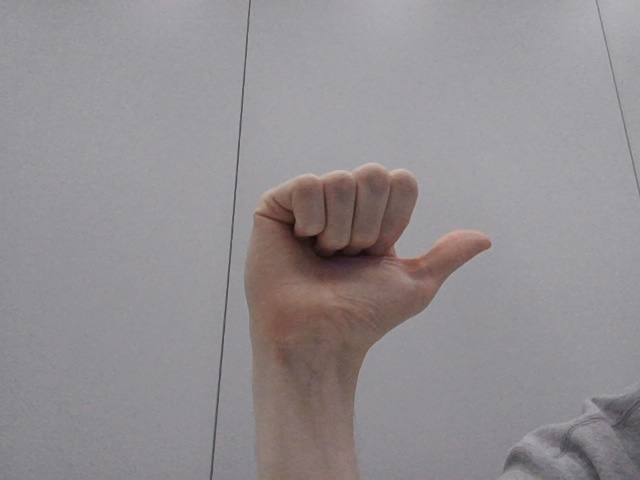left: (232, 153, 531, 384)
